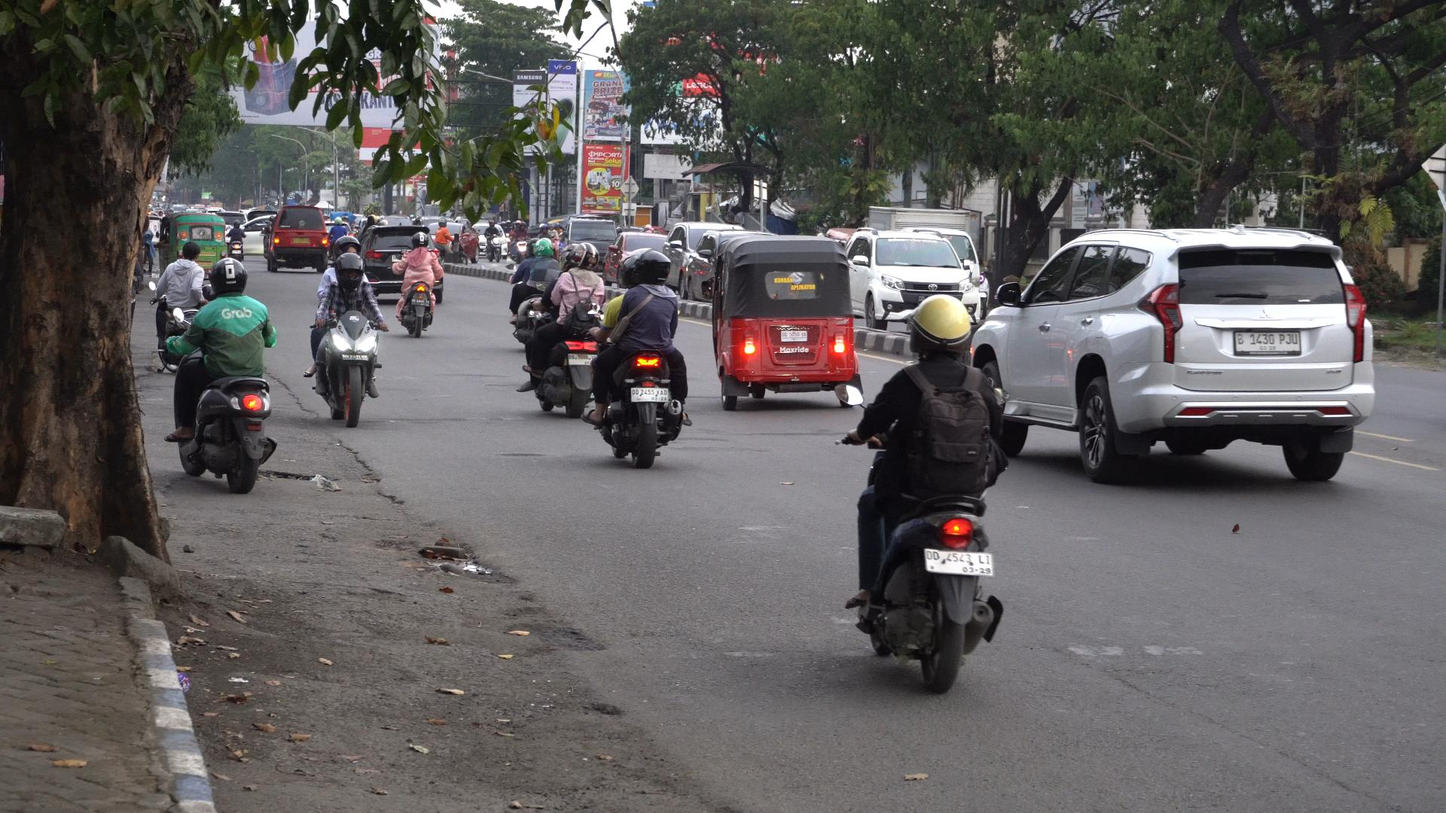number-plate: (339, 353, 377, 364)
